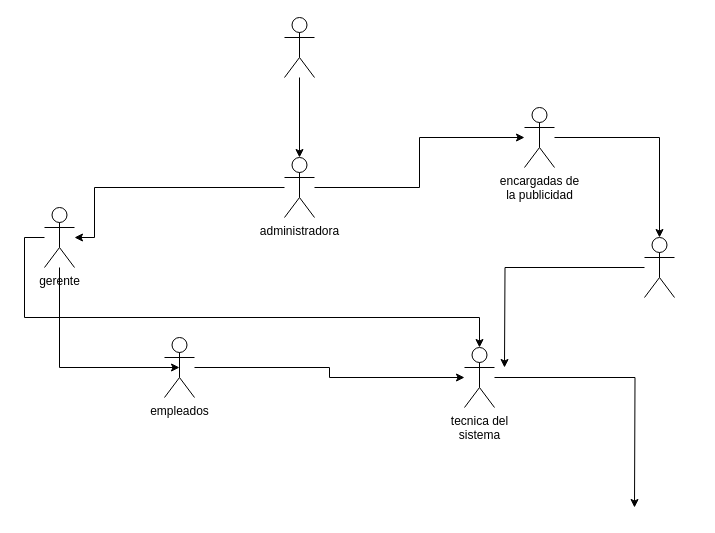
Some shapes in this 715 by 533 pixel diagram are drawn without their labels. Here are the shapes that lost their labels. From the top down, the centre of each, then its label:
[299,47]: Dueño de la empresa
[659,267]: encargada del sofware
